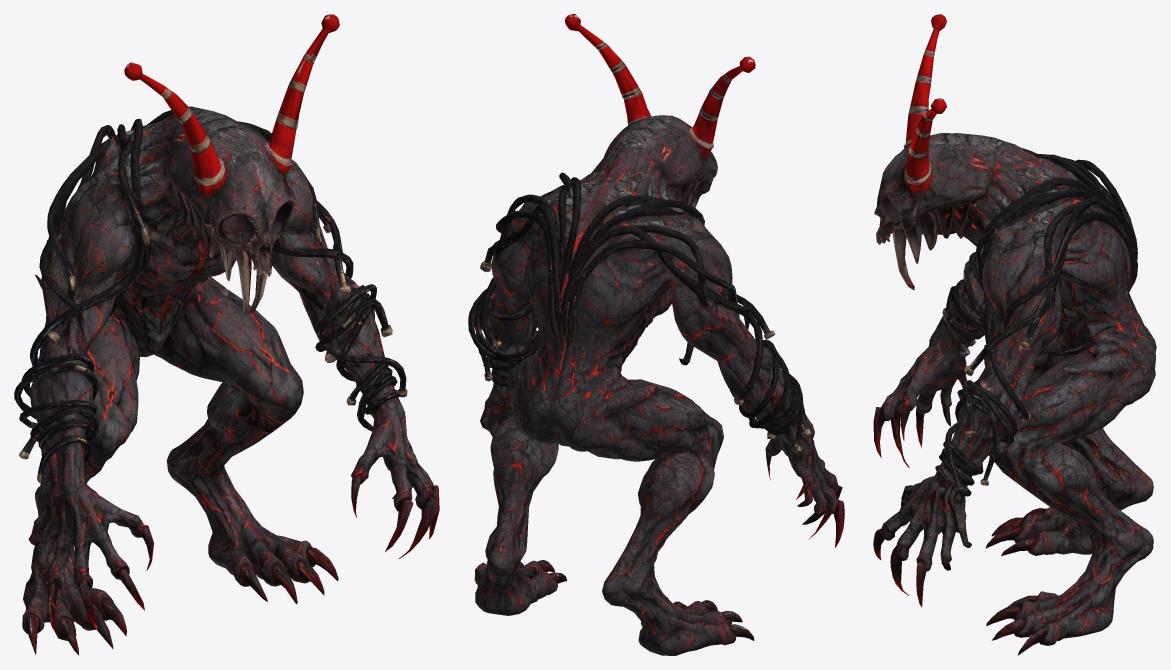
Rendered from kreatur-funkraum.glb.
3 renders of one model, left to right at view 1: azimuth 30°, elevation 25°; view 2: azimuth 150°, elevation 25°; view 3: azimuth 270°, elevation 25°, orthographic. The views are drawn at different scales.
Size of the model in its own units: 1.27 by 1.9 by 0.9113.
Materials: 1 (1 with a texture image).
